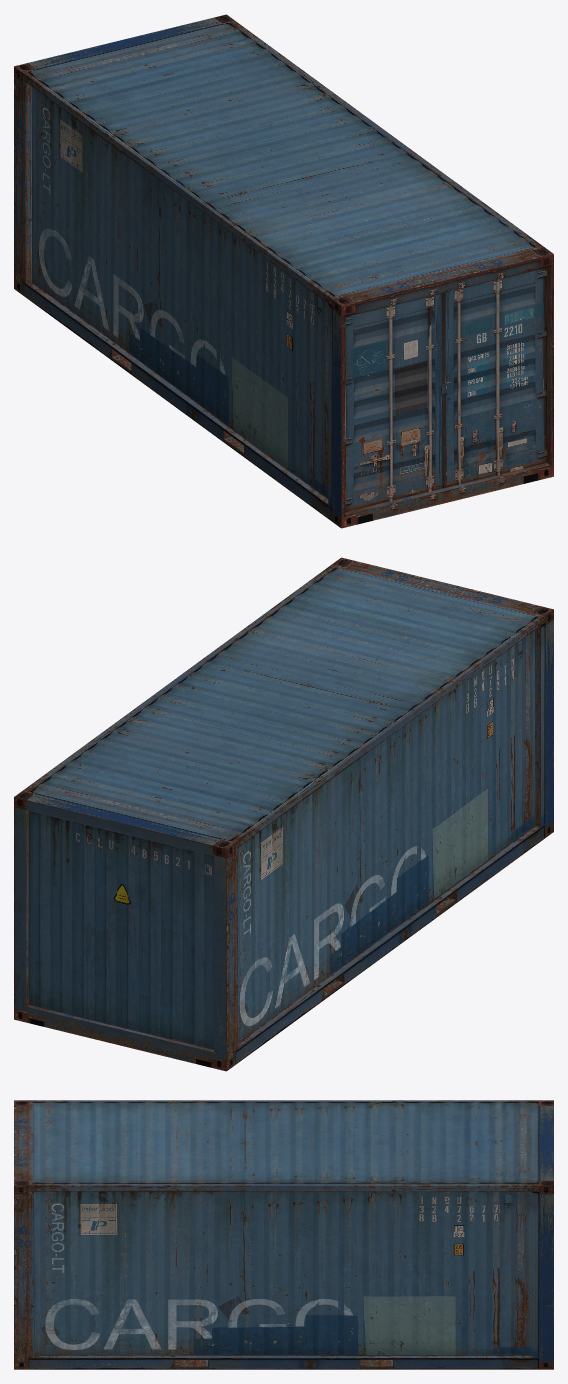
The model's file is Cargo_container_v1_LD2close (7).glb.
3 renders of one model, top to bottom at view 1: azimuth 30°, elevation 25°; view 2: azimuth 150°, elevation 25°; view 3: azimuth 270°, elevation 25°, orthographic. The views are drawn at different scales.
Visible parts, largest first — view 1: Cargo_container_v1_LD2close (7); view 2: Cargo_container_v1_LD2close (7); view 3: Cargo_container_v1_LD2close (7).
Part boxes in pixels (x1,y1,x2,y2): Cargo_container_v1_LD2close (7): (14,14,553,528); Cargo_container_v1_LD2close (7): (14,557,553,1071); Cargo_container_v1_LD2close (7): (14,1100,553,1369).
Bounding box in the file's own units: 3 × 3 × 8.
1 material, 1 textured.
